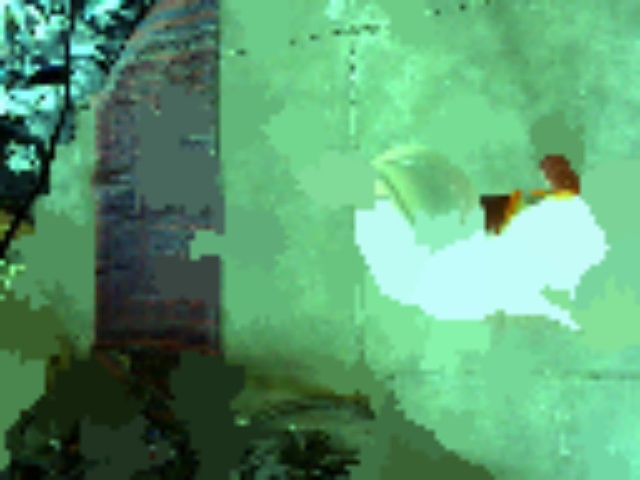three: (387, 241, 438, 277)
